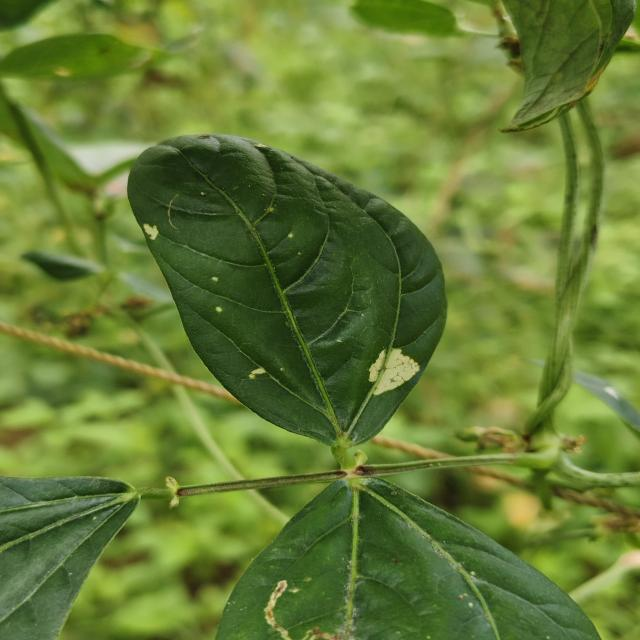leaf-low: (0, 476, 140, 640)
sitaw-aphid-high: (128, 135, 446, 448), (216, 479, 600, 640)
